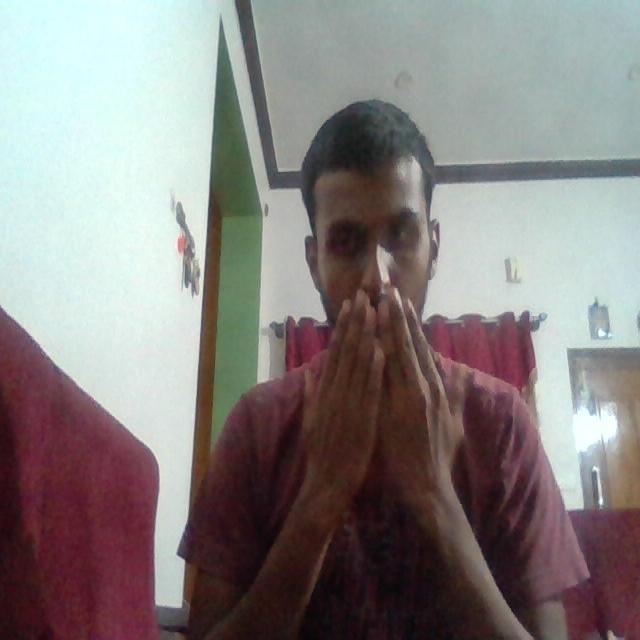thanks: (276, 283, 473, 513)
